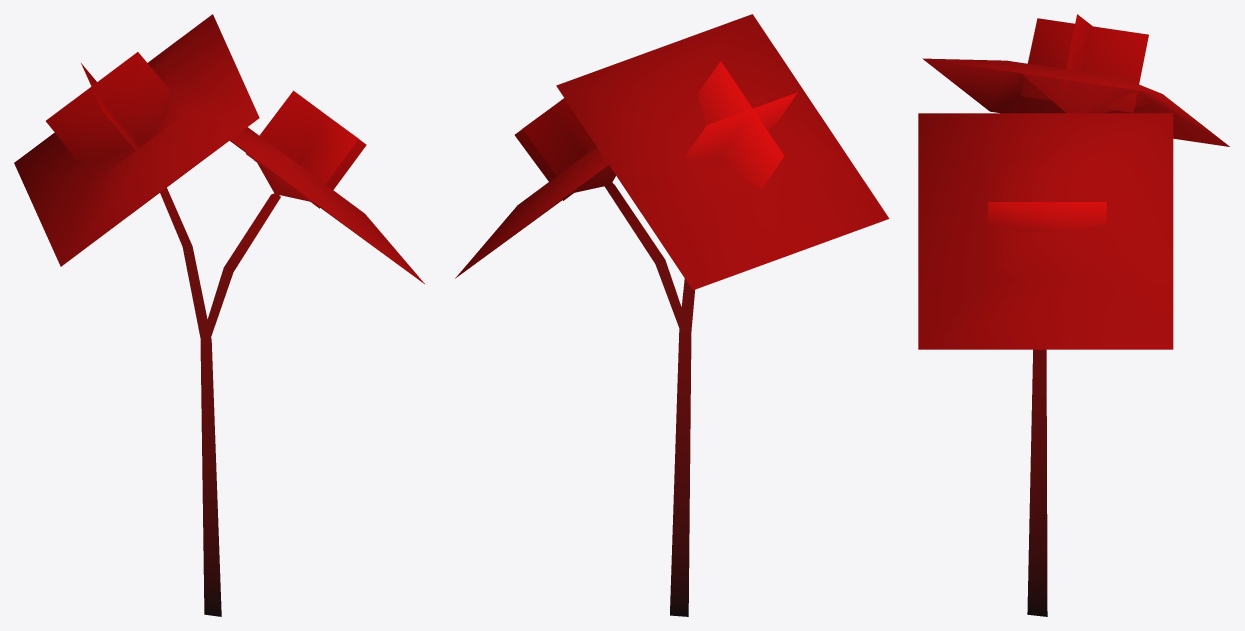
The model's file is SM_Flower3.fbx.
3 renders of one model, left to right at view 1: azimuth 30°, elevation 25°; view 2: azimuth 150°, elevation 25°; view 3: azimuth 270°, elevation 25°, orthographic. The views are drawn at different scales.
Visible parts, largest first — view 1: Flower3; view 2: Flower3; view 3: Flower3.
Part boxes in pixels (left/top/right/bottom): Flower3: left=14, top=14, right=424, bottom=616; Flower3: left=455, top=14, right=889, bottom=616; Flower3: left=918, top=14, right=1229, bottom=616.
Size of the model in its own units: 0.226 by 0.3631 by 0.1798.
